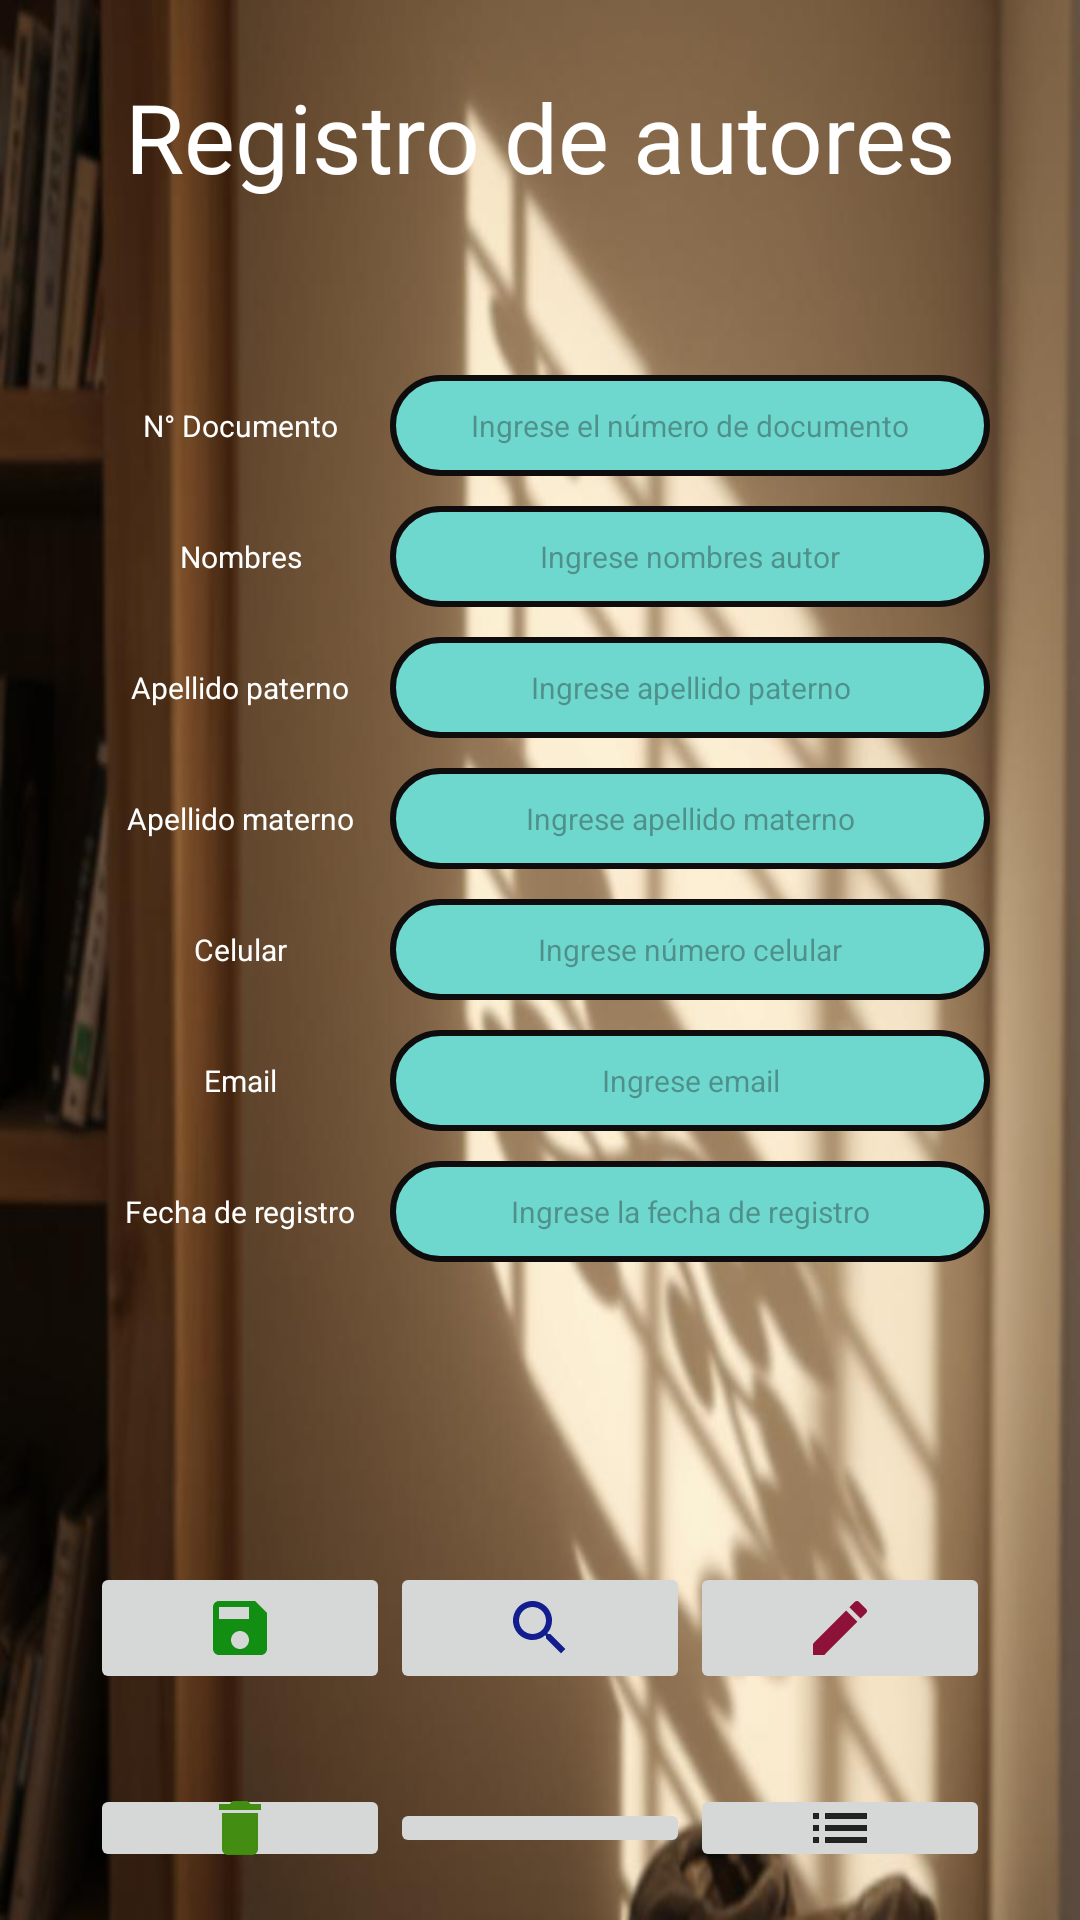

Point at icon controls on the screen. Image size 1080px×1920px, points as (x,y).
edit: (840,1628)
save: (240,1628)
search: (540,1628)
